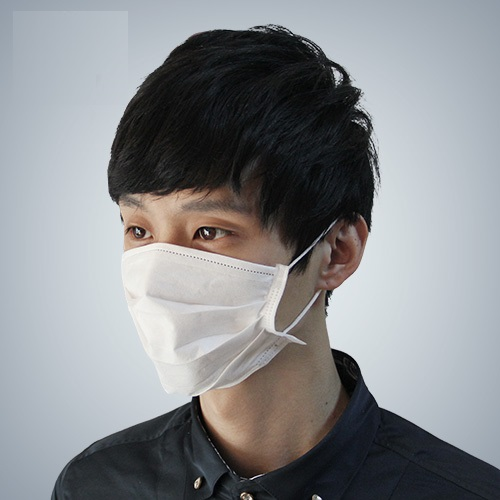face_mask: (116, 133, 303, 383)
